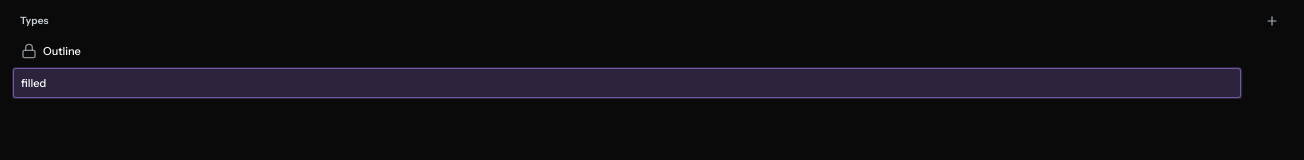
Test: EditorShell TypesSection inline rename (characterization) › Non-default type — Enter commits via onRenameType with trimmed value
Double-click the button "filled" at (34, 83), box x1=12 y1=67 x2=1242 y2=99
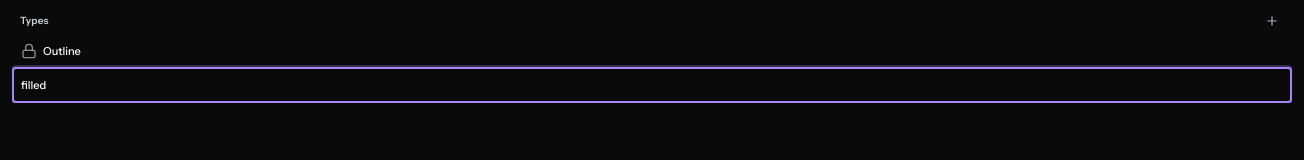
Replace the text in the field with class "inline-rename-input" with "  colored  " at (652, 85), box x1=12 y1=67 x2=1292 y2=103
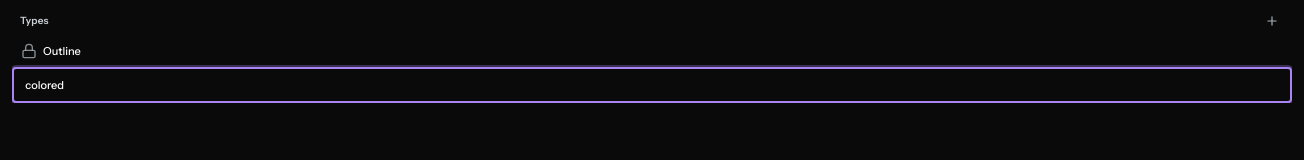
Press Enter in the field with class "inline-rename-input", box x1=12 y1=67 x2=1292 y2=103
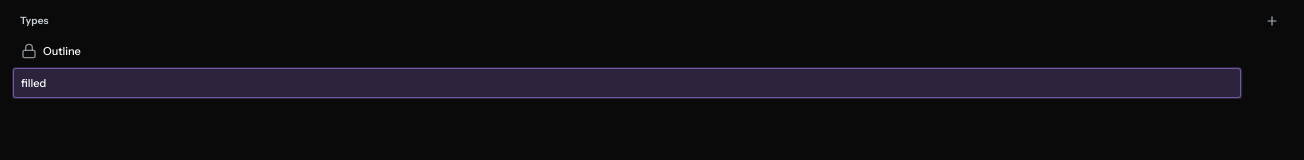
Expected: the field with class "inline-rename-input" is gone
